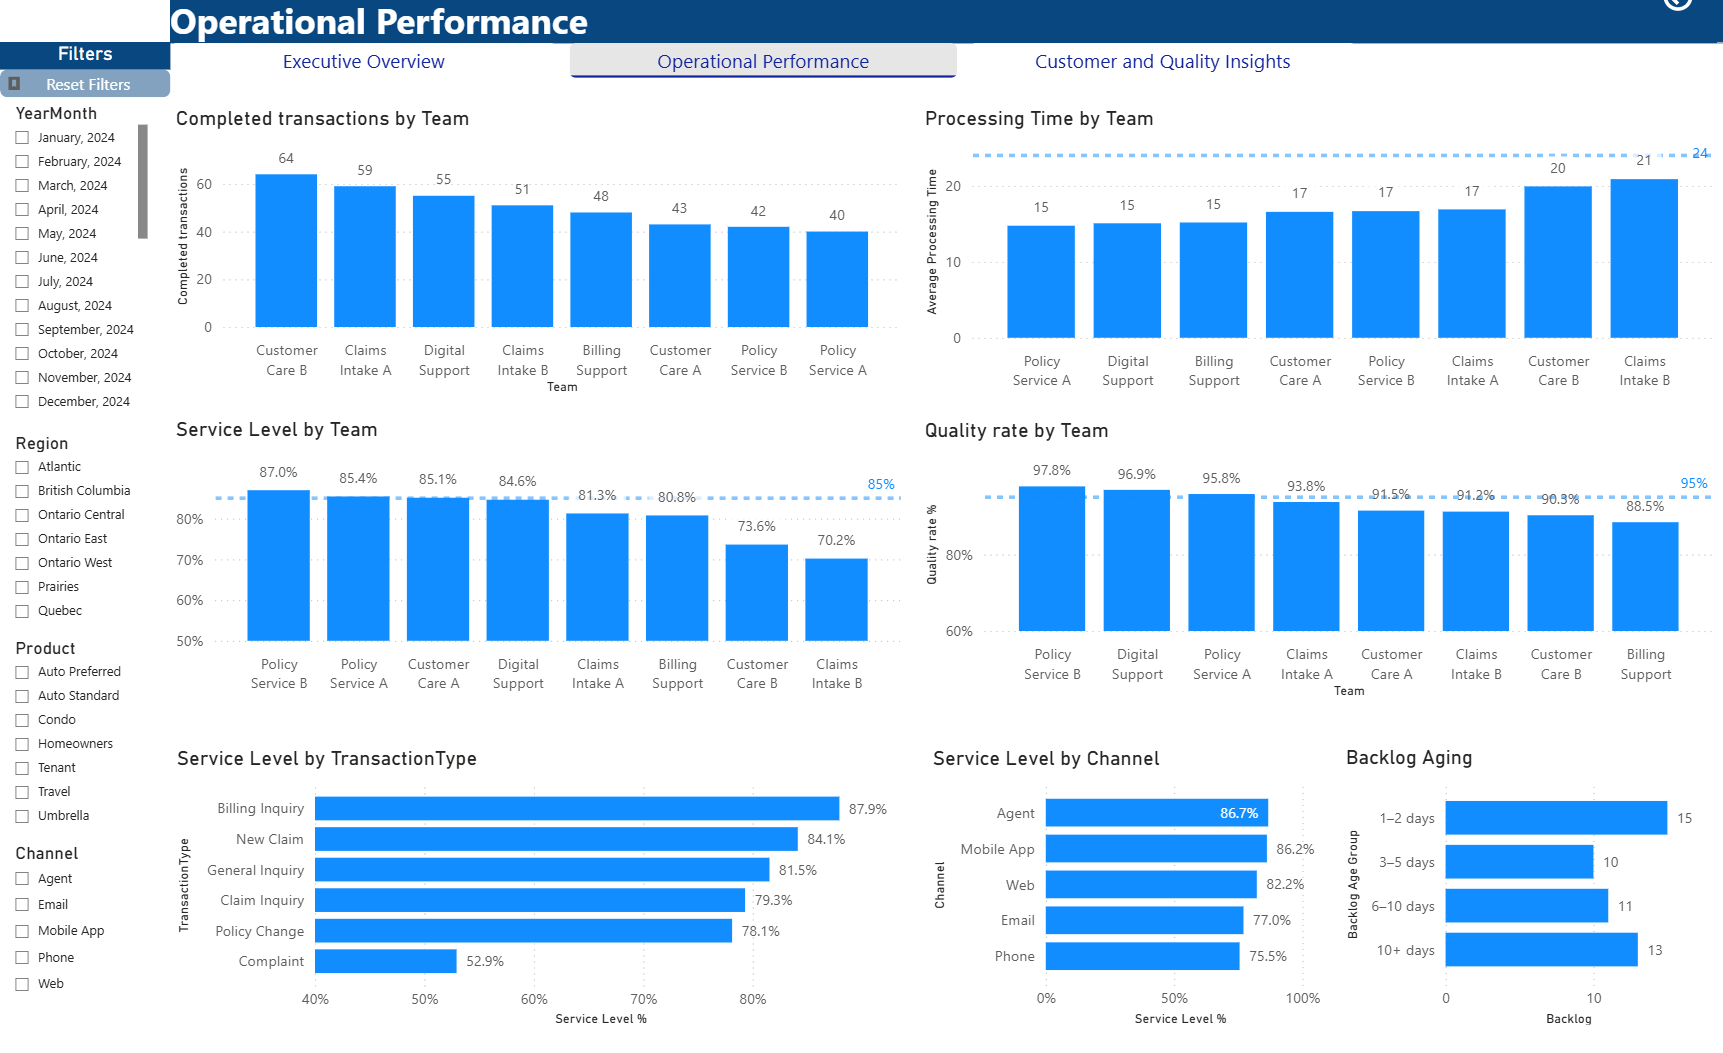

The dashboard page shown, as its layout file describes it:
{"tool":"powerbi","page":{"name":"Operational Performance","canvas":[1440,900],"ordinal":1},"visuals":[{"type":"columnChart","fields":{"Category":["DimTeam.Team"],"Y":["Measures table.Completed transactions"]},"box":[141.7,109,614.2,244.2],"z":0},{"type":"lineStackedColumnComboChart","title":"Processing Time by Team","fields":{"Category":["DimTeam.Team"],"Y":["Measures table.Average Processing Time"]},"box":[765.8,109.2,667.5,244.2],"z":1000},{"type":"barChart","title":"Backlog Aging","fields":{"Category":["FactOperations.Backlog Age Group"],"Y":["Measures table.Backlog"]},"box":[1116.8,641.5,305.8,238.3],"z":2000},{"type":"barChart","title":"Service Level by Channel","fields":{"Category":["DimChannel.Channel"],"Y":["Measures table.Service Level %"]},"box":[772.7,642.3,344.2,237.5],"z":3000},{"type":"columnChart","title":"Quality rate by Team","fields":{"Category":["DimTeam.Team"],"Y":["Measures table.Quality rate %"]},"box":[765.8,369.2,667.5,237.5],"z":4000},{"type":"lineStackedColumnComboChart","title":"Service Level by Team","fields":{"Category":["DimTeam.Team"],"Y":["Measures table.Service Level %"]},"box":[141.7,368.2,614.2,237.5],"z":5000},{"type":"slicer","fields":{"Values":["DimDate.YearMonth"]},"box":[0,102,127.9,267.9],"z":6000},{"type":"slicer","fields":{"Values":["DimRegion.Region"]},"box":[0,376.3,127.9,177.9],"z":7000},{"type":"slicer","fields":{"Values":["DimProduct.Product"]},"box":[0,547.7,134.2,170.8],"z":8000},{"type":"barChart","title":"Service Level by TransactionType","fields":{"Category":["FactOperations.TransactionType"],"Y":["Measures table.Service Level %"]},"box":[142.2,642.2,614,238],"z":9000},{"type":"textbox","title":"INSURANCE OPERATIONS PERFORMANCE","box":[142,0,1298,57],"z":10000},{"type":"pageNavigator","title":"lalala","box":[142,57,991,29],"z":11000},{"type":"actionButton","title":"Filters","box":[0,56,142,46],"z":12000},{"type":"actionButton","box":[1381.7,0,33.3,35],"z":13000},{"type":"slicer","fields":{"Values":["DimChannel.Channel"]},"box":[0,718.3,128.3,146.7],"z":14000}]}

Visuals, with their boxes in screenshot pixels (x1, y1, x2, y2), scaled from the page's 1440x900 canvas onto the 1723x1053 screenshot:
columnChart - DimTeam.Team x Measures table.Completed transactions: x1=170, y1=128, x2=904, y2=413
"Processing Time by Team" lineStackedColumnComboChart: x1=916, y1=128, x2=1715, y2=413
"Backlog Aging" barChart: x1=1336, y1=751, x2=1702, y2=1029
"Service Level by Channel" barChart: x1=925, y1=751, x2=1336, y2=1029
"Quality rate by Team" columnChart: x1=916, y1=432, x2=1715, y2=710
"Service Level by Team" lineStackedColumnComboChart: x1=170, y1=431, x2=904, y2=709
slicer - DimDate.YearMonth: x1=0, y1=119, x2=153, y2=433
slicer - DimRegion.Region: x1=0, y1=440, x2=153, y2=648
slicer - DimProduct.Product: x1=0, y1=641, x2=161, y2=841
"Service Level by TransactionType" barChart: x1=170, y1=751, x2=905, y2=1030
"INSURANCE OPERATIONS PERFORMANCE" textbox: x1=170, y1=0, x2=1722, y2=67
"lalala" pageNavigator: x1=170, y1=67, x2=1356, y2=101
"Filters" actionButton: x1=0, y1=66, x2=170, y2=119
actionButton: x1=1653, y1=0, x2=1693, y2=41
slicer - DimChannel.Channel: x1=0, y1=840, x2=154, y2=1012
